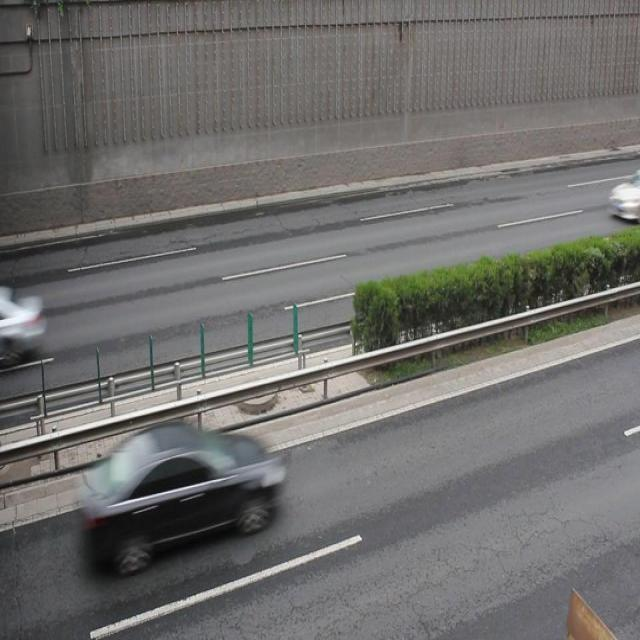car: (84, 419, 279, 569), (1, 288, 41, 360)
